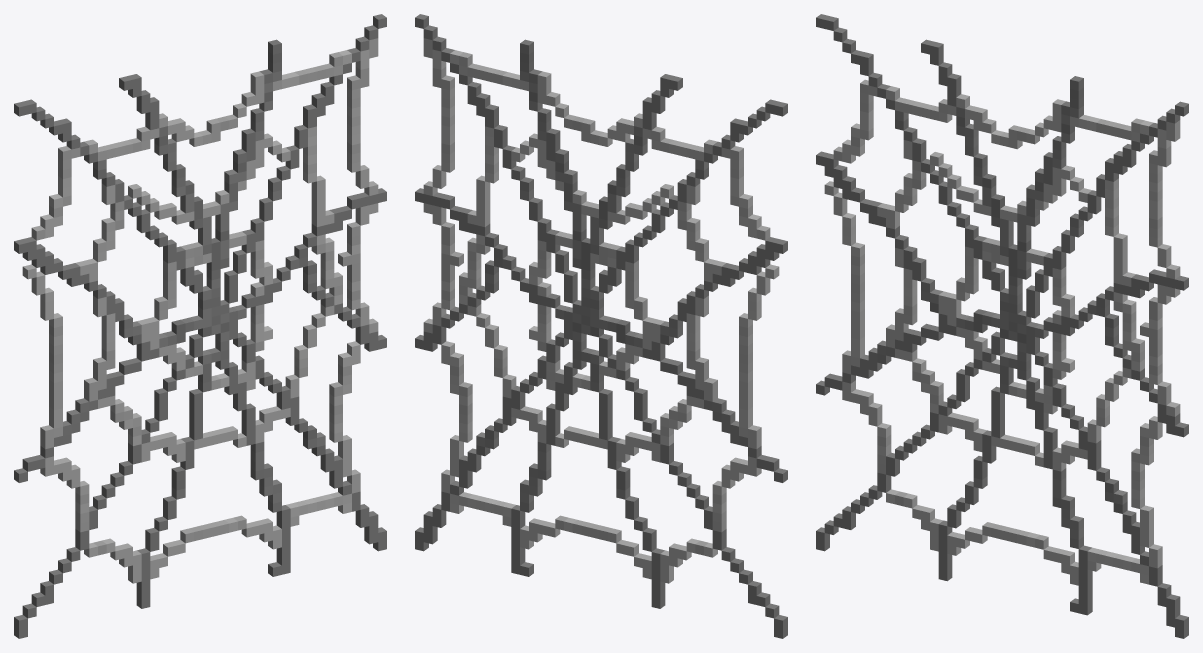
Rendered from SpiderWeb.obj.
3 views of the same model, side by side, from view 1: azimuth 30°, elevation 25°; view 2: azimuth 150°, elevation 25°; view 3: azimuth 330°, elevation 25° (orthographic).
Size of the model in its own units: 4.2 by 5.8 by 0.1.
1 material, 1 textured.
